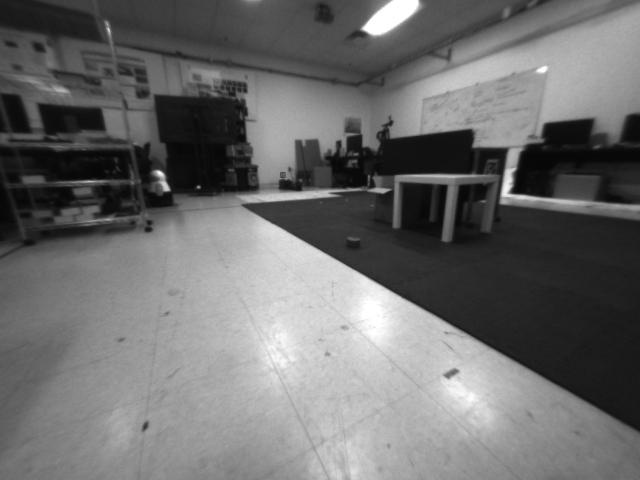dogtoy: (337, 230, 372, 260)
